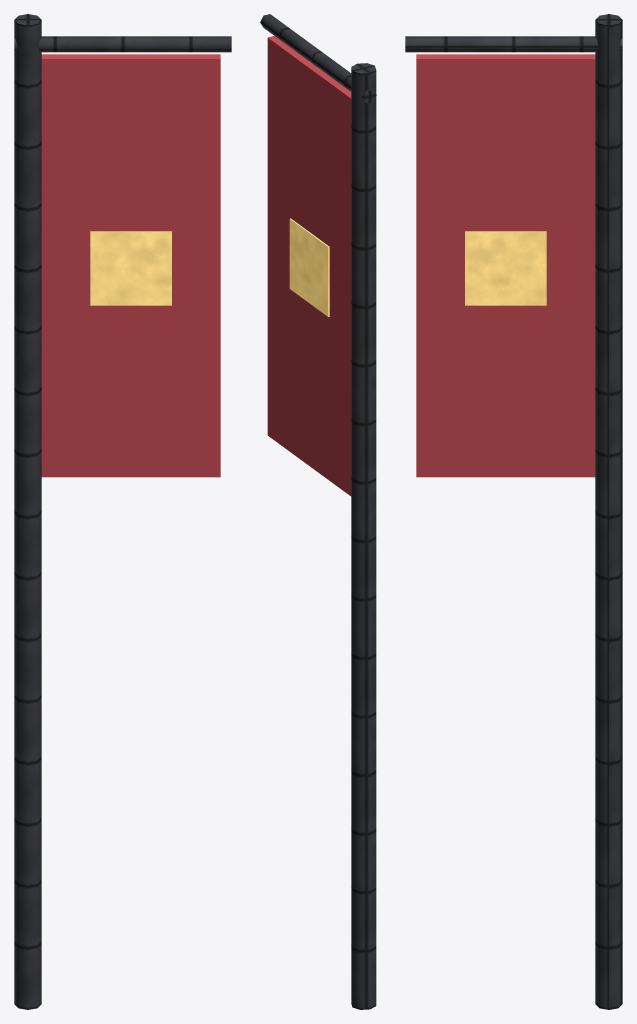
Rendered from banner.glb.
3 renders of one model, left to right at view 1: azimuth 90°, elevation 25°; view 2: azimuth 210°, elevation 25°; view 3: azimuth 270°, elevation 25°, orthographic. The views are drawn at different scales.
Visible parts, largest first — view 1: banner; view 2: banner; view 3: banner.
Part boxes in pixels (left/top/right/bottom): banner: left=14, top=14, right=231, bottom=1009; banner: left=260, top=14, right=376, bottom=1009; banner: left=405, top=14, right=622, bottom=1009.
Size of the model in its own units: 0.1 by 4 by 0.8.
Materials: 3 (2 with a texture image).
